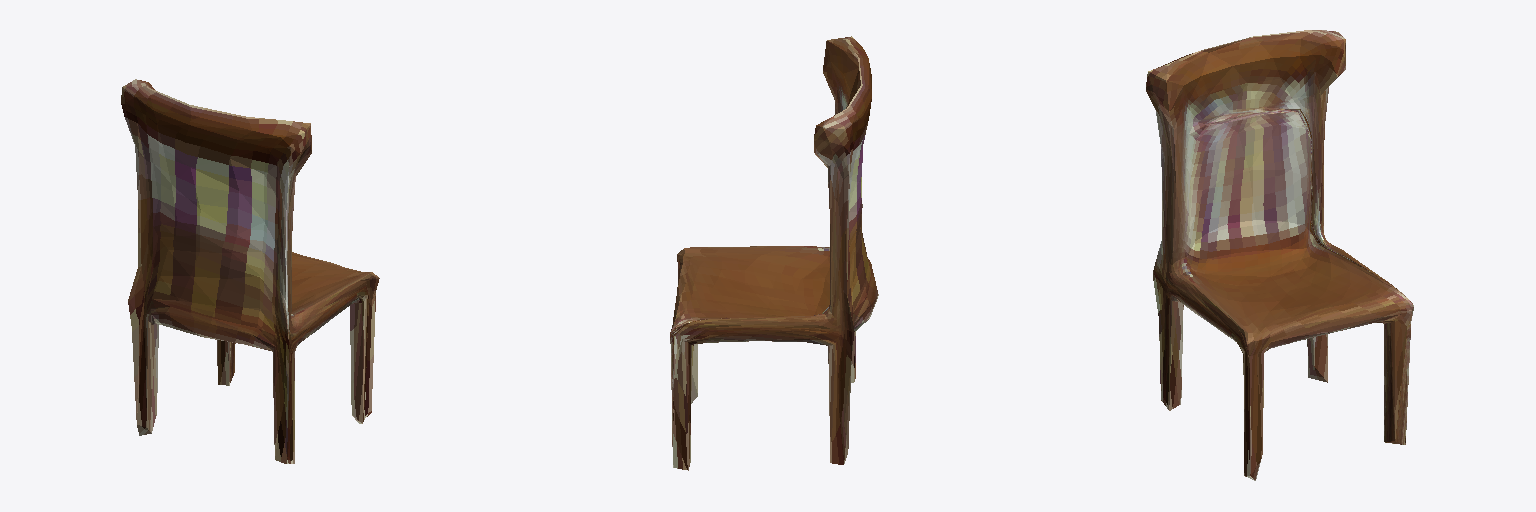
3 renders of one model, left to right at view 1: azimuth 30°, elevation 25°; view 2: azimuth 150°, elevation 25°; view 3: azimuth 270°, elevation 25°, orthographic.
Bounding box in the file's own units: 0.6196 × 1 × 0.6721.
Materials: 1 (1 with a texture image).